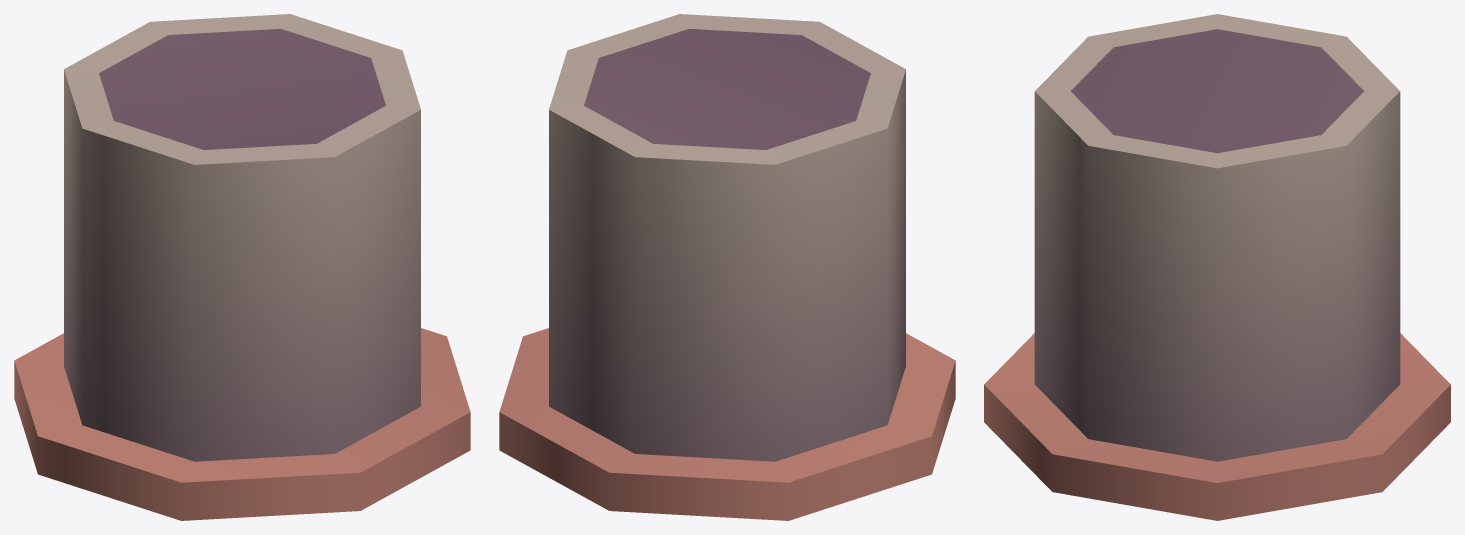
Rendered from MDL_BulletCase.fbx.
3 renders of one model, left to right at view 1: azimuth 30°, elevation 25°; view 2: azimuth 150°, elevation 25°; view 3: azimuth 270°, elevation 25°, orthographic.
Parts seen in each view (by area): view 1: MDL_BulletCase; view 2: MDL_BulletCase; view 3: MDL_BulletCase.
Boxes of the visible parts, box(x1,y1,x2,y2) form: MDL_BulletCase: box(14, 14, 470, 520); MDL_BulletCase: box(499, 14, 955, 520); MDL_BulletCase: box(984, 14, 1450, 520).
Bounding box in the file's own units: 0.5059 × 0.396 × 0.5059.
